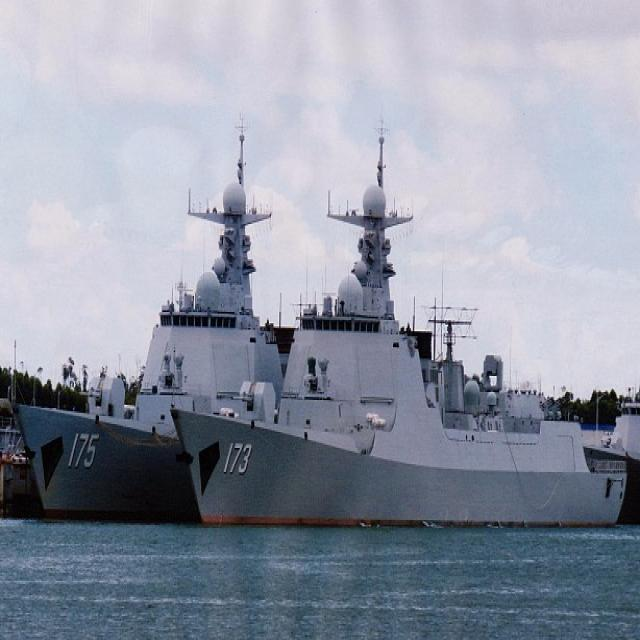Destroyer-Luyang-III-class-052-CHI: (168, 123, 630, 529), (18, 126, 370, 526)
